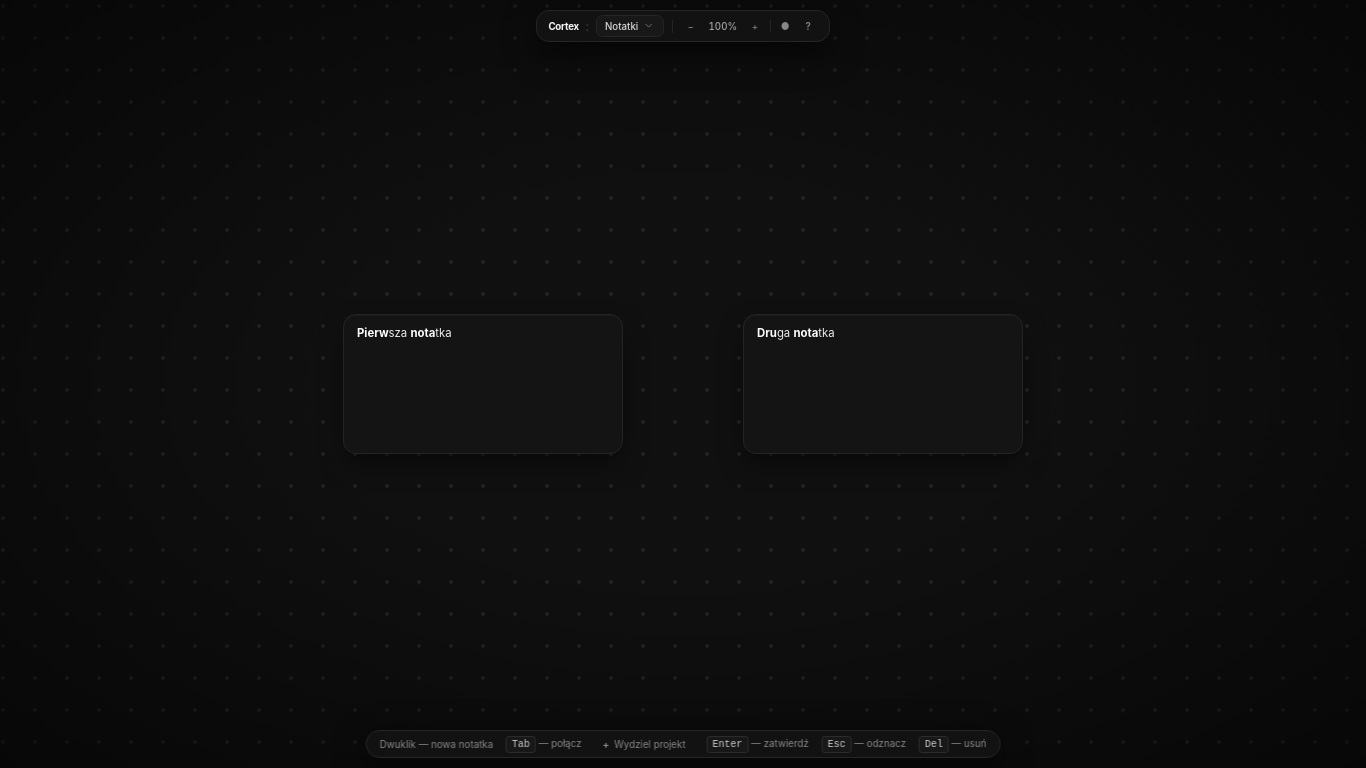
it: Project Switcher & Multi-Board Management › opens project switcher dropdown and lists projects
Step 1. Click the button with test id "project-switcher-button" → (630, 26), box [596, 15, 664, 37]
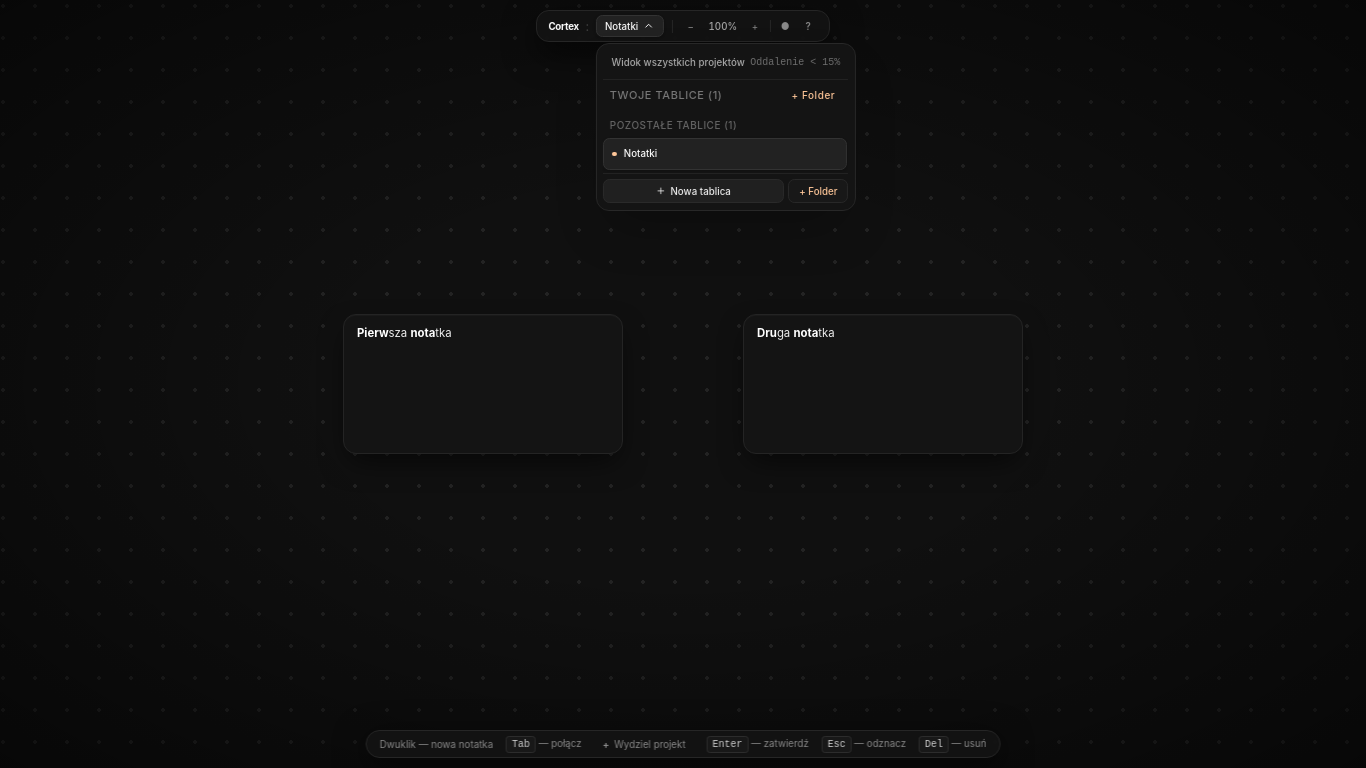
Expected: the element with test id "project-dropdown-menu" shows "Twoje tablice", [610, 88, 713, 102]
Expected: the element with test id "project-dropdown-menu" shows "Notatki", [624, 148, 657, 160]
